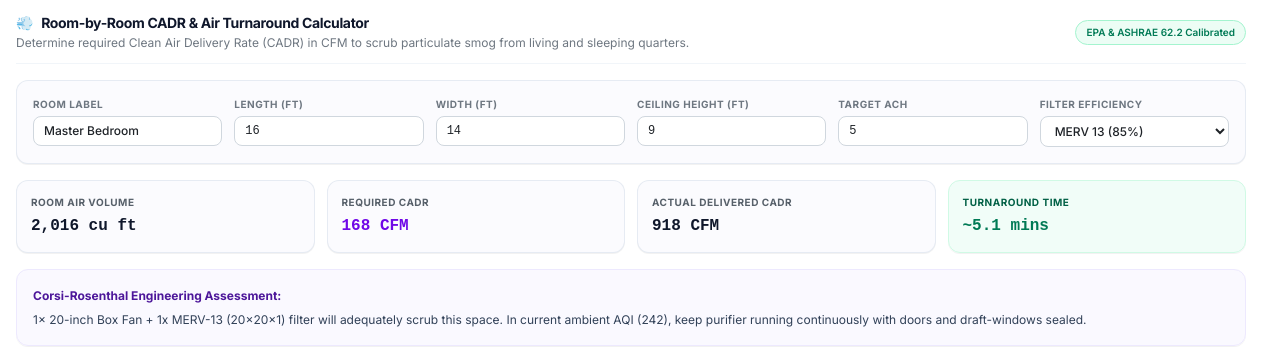
Test: CADRCalculator interactions › recalculates room air volume when dimensions change
The width and height of the screenshot is (1263, 363).
Replace the text in the number field labelled "Length (ft)" with "20". click: (329, 131)
box: [234, 116, 424, 146]
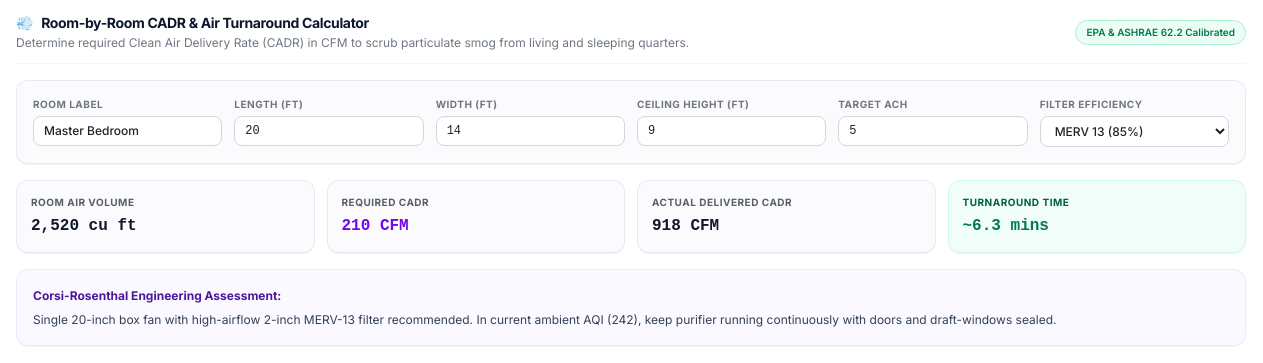
Replace the text in the number field labelled "Width (ft)" with "20". click: (530, 131)
box: [436, 116, 625, 146]
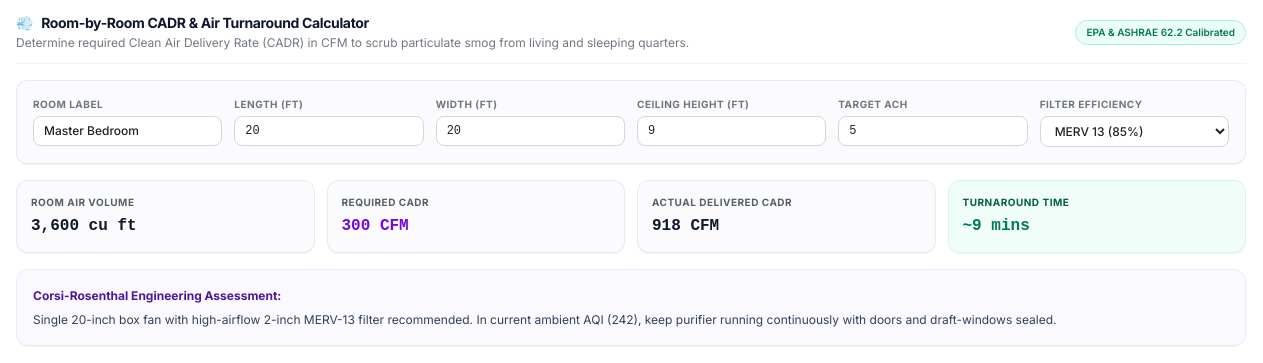
Replace the text in the number field labelled "Ceiling Height (ft)" with "10". click: (732, 131)
box: [637, 116, 826, 146]
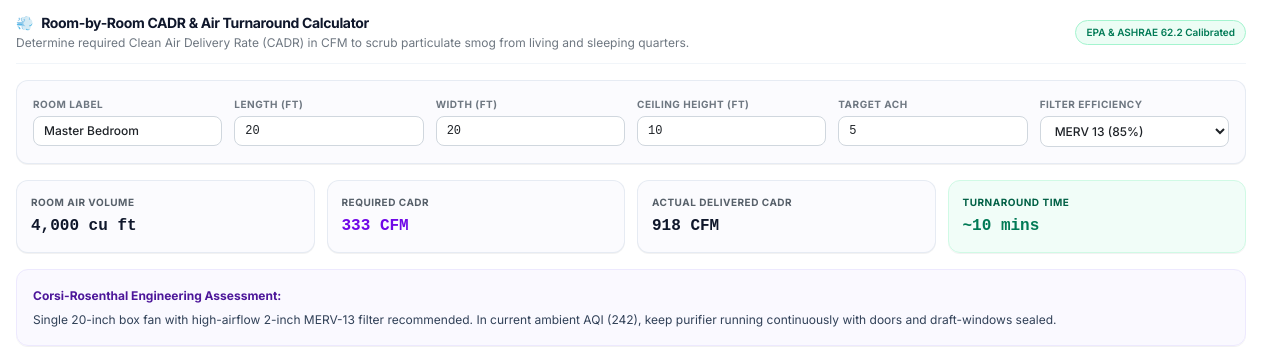
Now the text "4,000 cu ft" is shown, box [31, 217, 137, 235]
